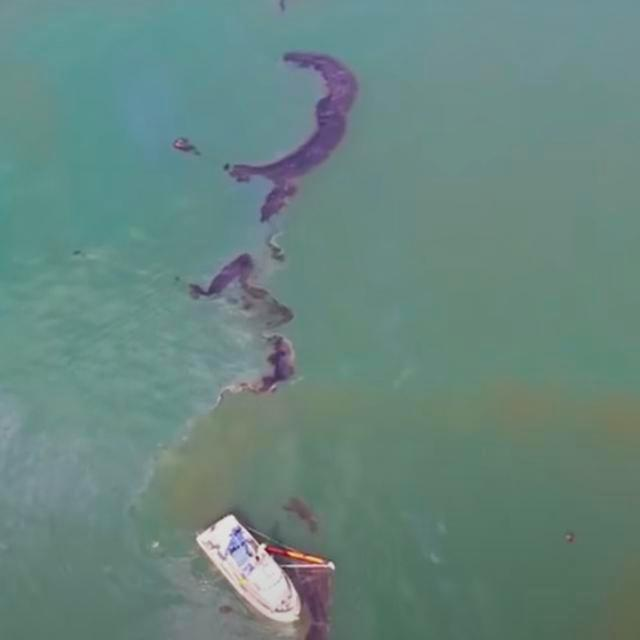oil: (178, 40, 364, 405)
